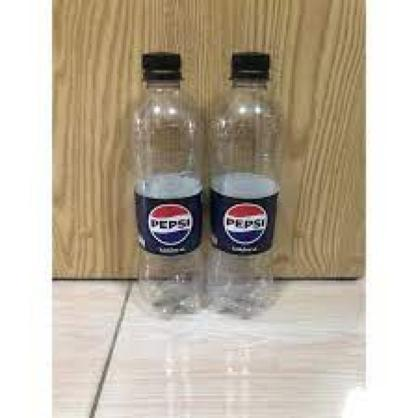bottle: (132, 52, 206, 315), (206, 49, 277, 317)
cap: (227, 53, 272, 87), (142, 52, 186, 85)
label: (134, 186, 202, 256), (212, 188, 273, 256)
